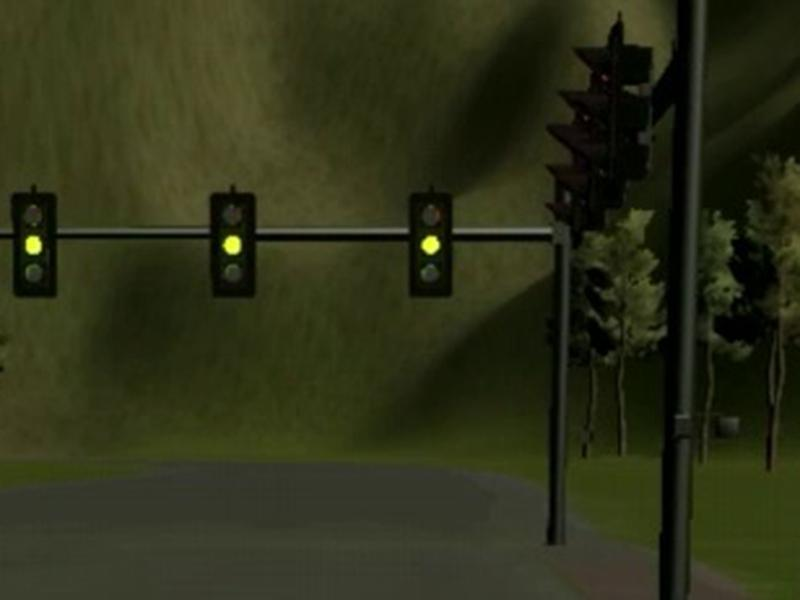Yellow: (209, 193, 256, 298), (12, 191, 56, 298), (409, 191, 453, 297)
